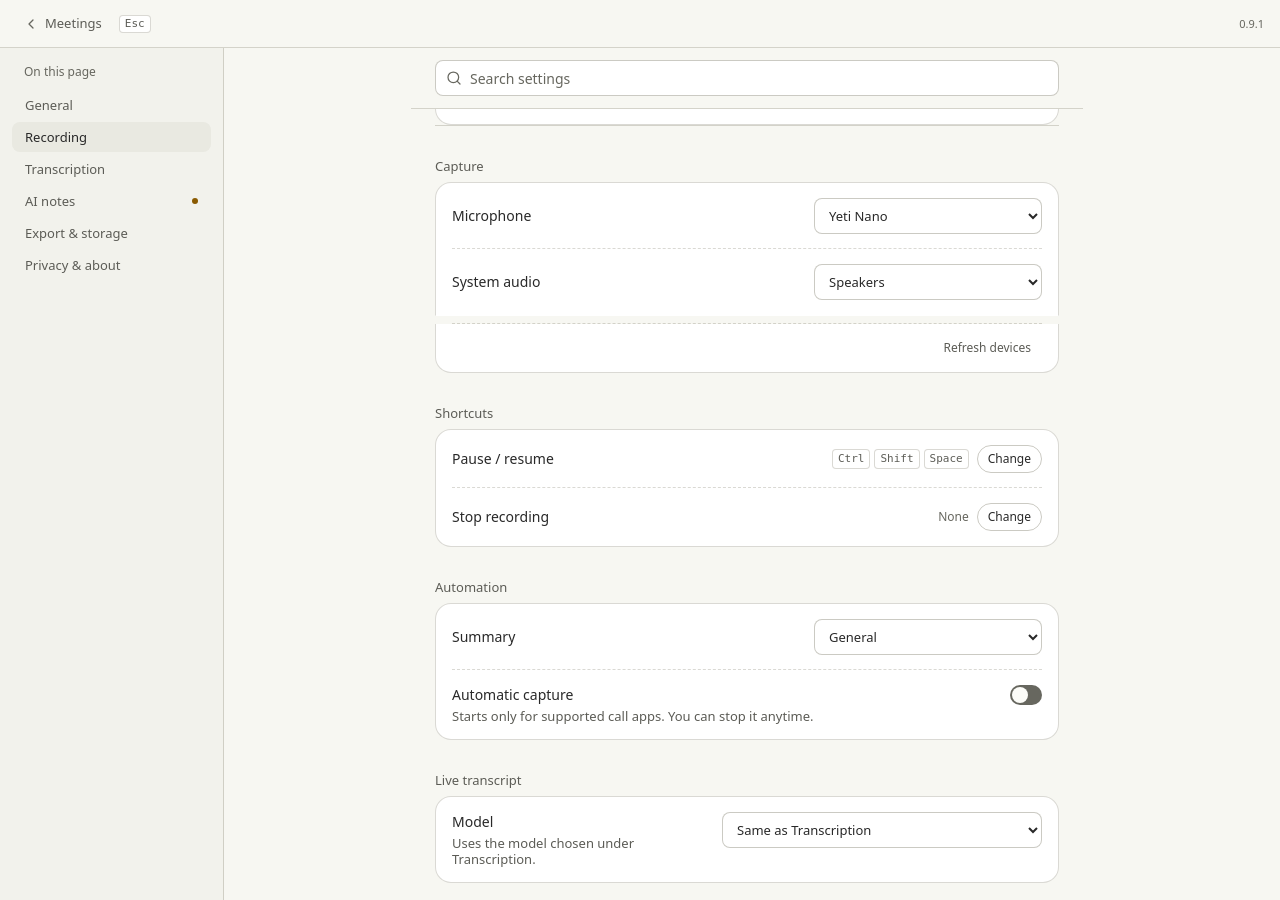
refuses a key press without a modifier and says why
The width and height of the screenshot is (1280, 900).
(page scrolled)
Click the button with aria-label "Change pause / resume shortcut". click: (1009, 459)
box: left=977, top=445, right=1042, bottom=473
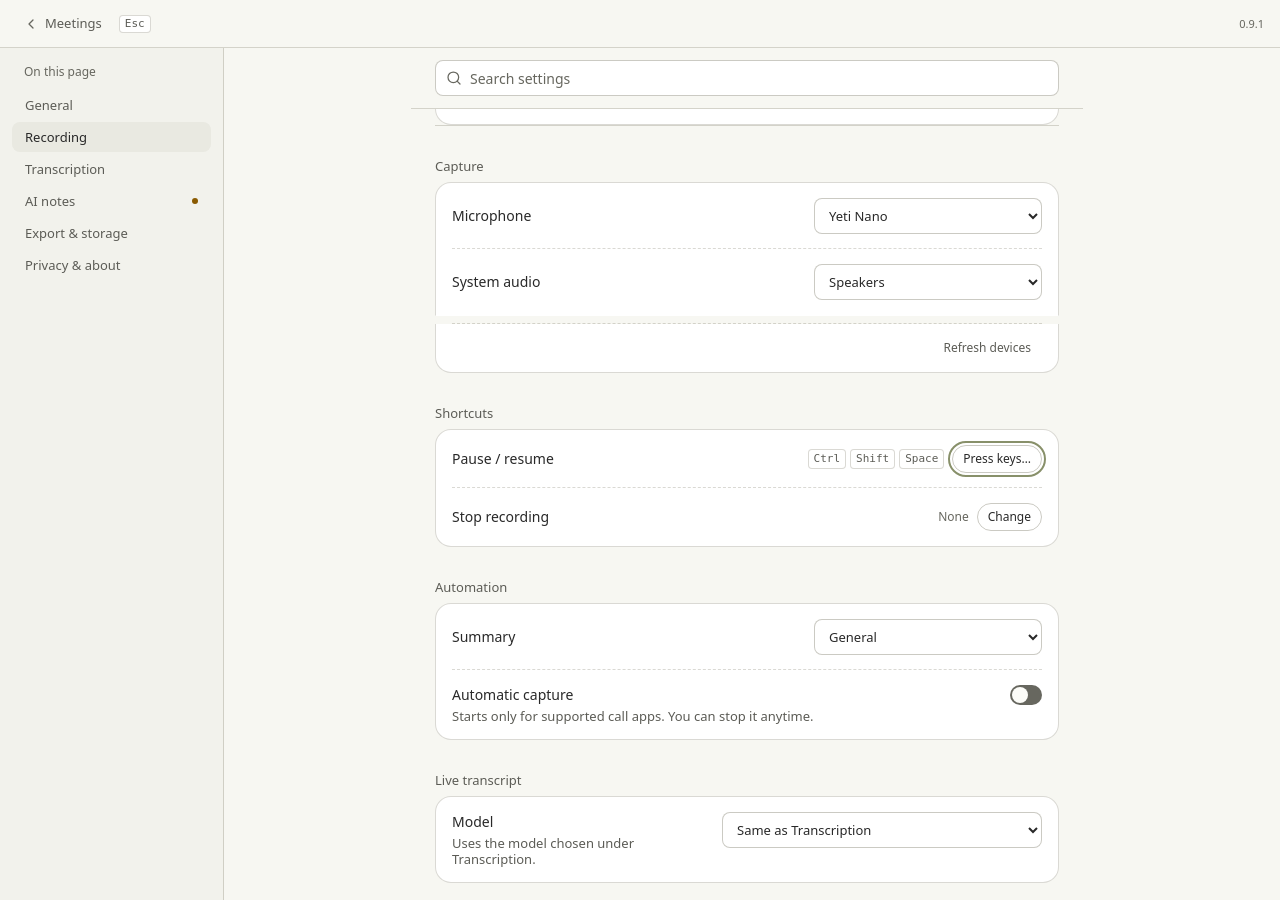
Press s in the button with aria-label "Change pause / resume shortcut", box left=952, top=445, right=1042, bottom=473
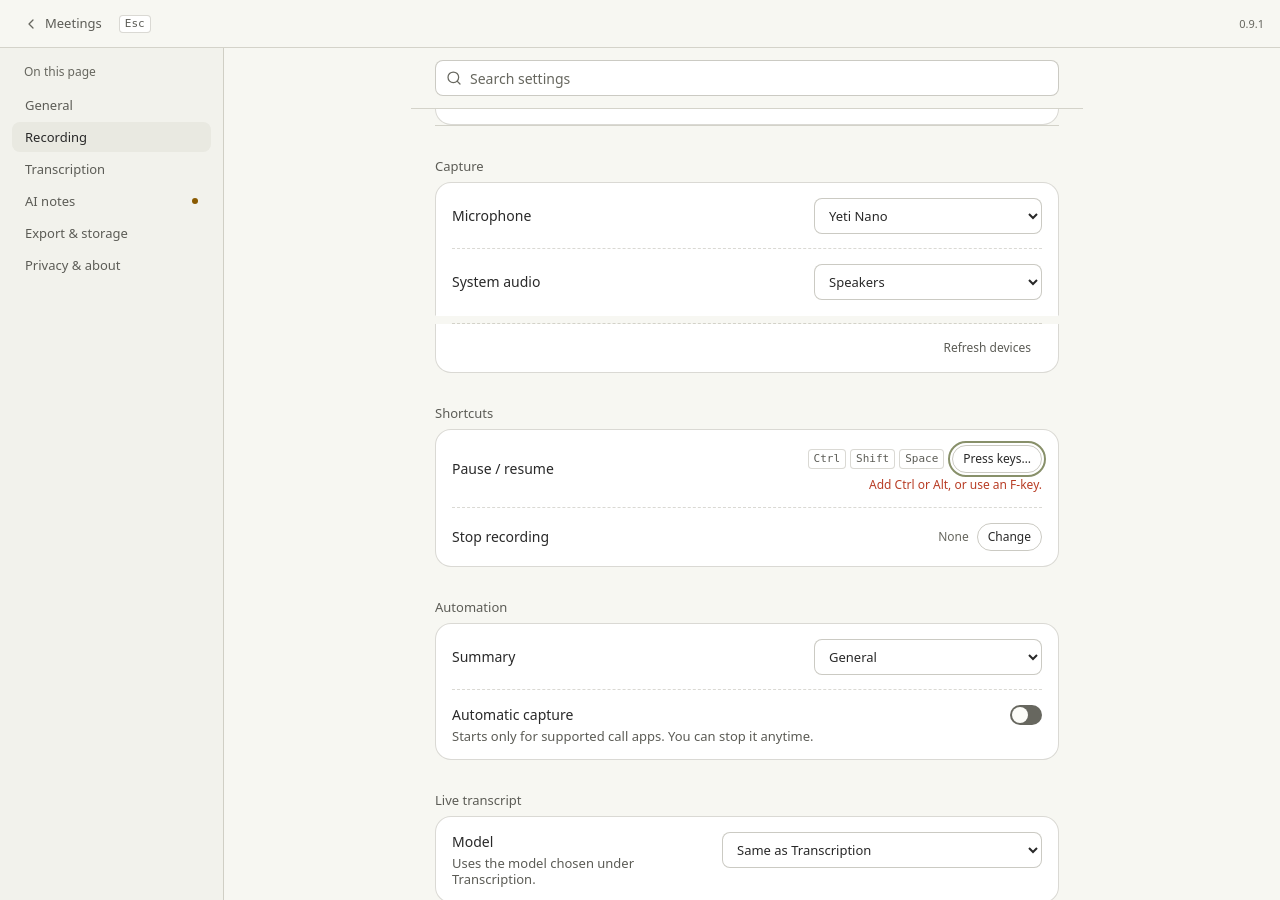
expect the text "Add Ctrl or Alt, or use an F-key." is shown: met, box left=869, top=477, right=1042, bottom=493
